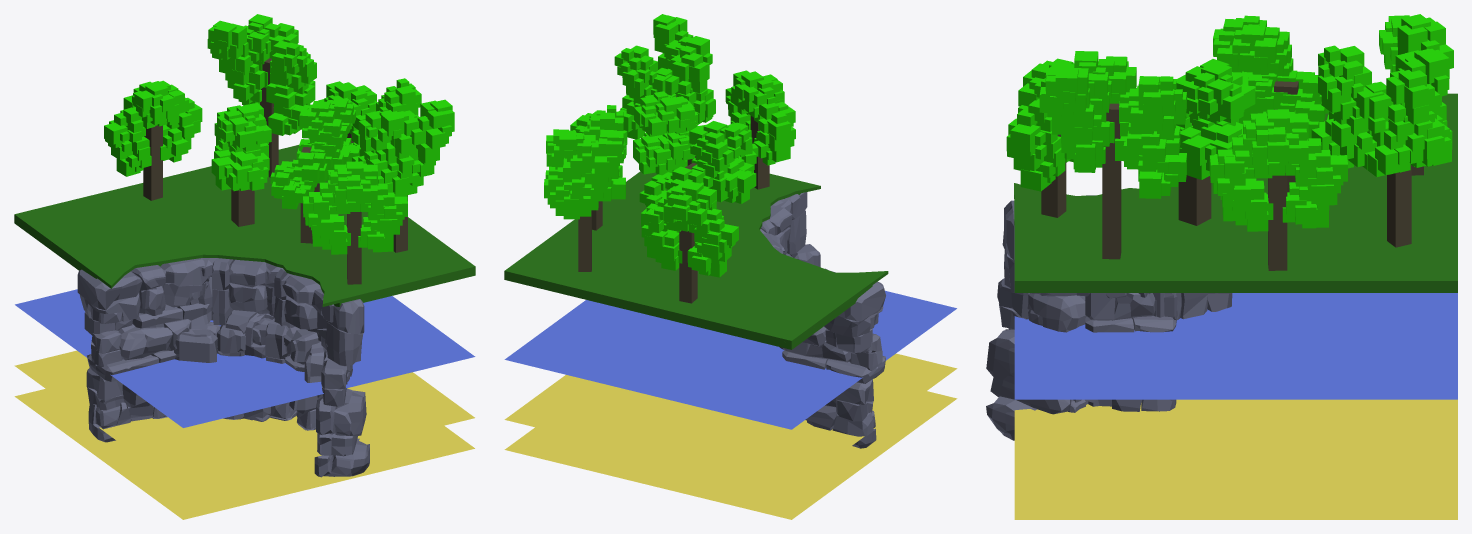
The model's file is 58__tile.fbx.
3 renders of one model, left to right at view 1: azimuth 30°, elevation 25°; view 2: azimuth 150°, elevation 25°; view 3: azimuth 270°, elevation 25°, orthographic. The views are drawn at different scales.
Visible parts, largest first — view 1: 58__tile; view 2: 58__tile; view 3: 58__tile.
Boxes of the visible parts, x1=… form: 58__tile: x1=14, y1=14, x2=475, y2=519; 58__tile: x1=504, y1=14, x2=957, y2=519; 58__tile: x1=986, y1=14, x2=1457, y2=519.
Size of the model in its own units: 205 by 218 by 213.
